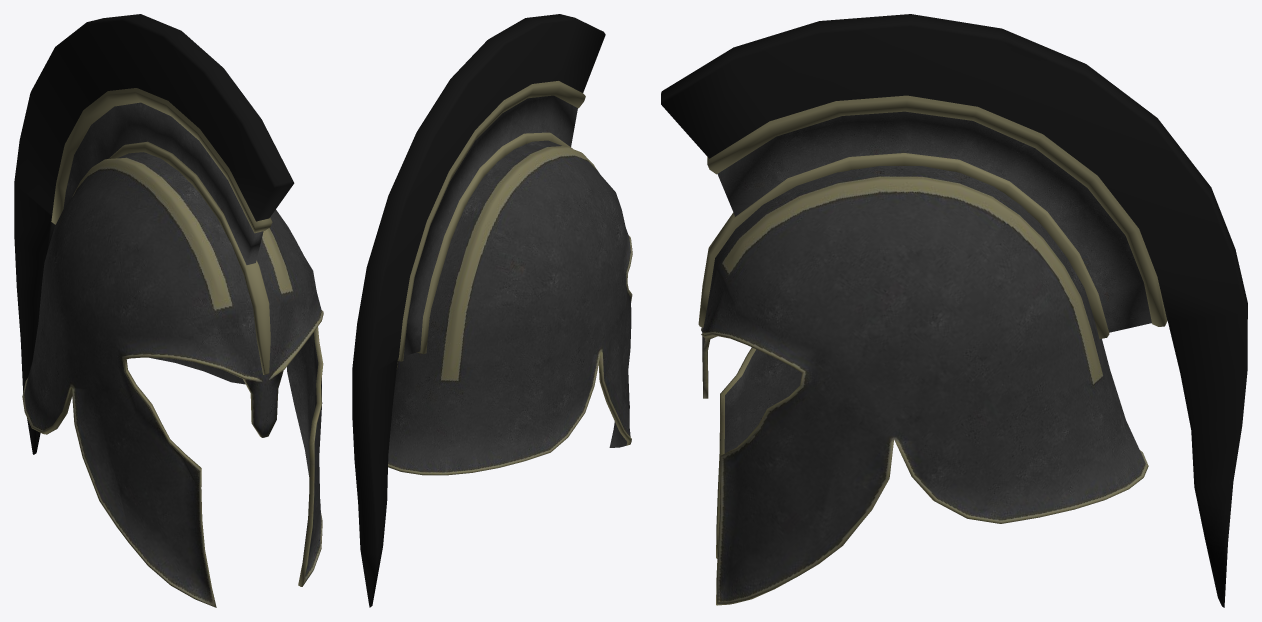
The model's file is snake_statue.glb.
3 renders of one model, left to right at view 1: azimuth 30°, elevation 25°; view 2: azimuth 150°, elevation 25°; view 3: azimuth 270°, elevation 25°, orthographic. The views are drawn at different scales.
Parts seen in each view (by area): view 1: Achilles, Hair; view 2: Achilles, Hair; view 3: Achilles, Hair.
Part boxes in pixels (x1,y1,x2,y2): Achilles: (22,152,323,607); Hair: (14,14,294,454); Achilles: (388,140,632,475); Hair: (352,14,605,607); Achilles: (701,166,1148,605); Hair: (661,14,1247,607).
Bounding box in the file's own units: 0.8708 × 2 × 1.8.
Materials: 2 (2 with a texture image).
